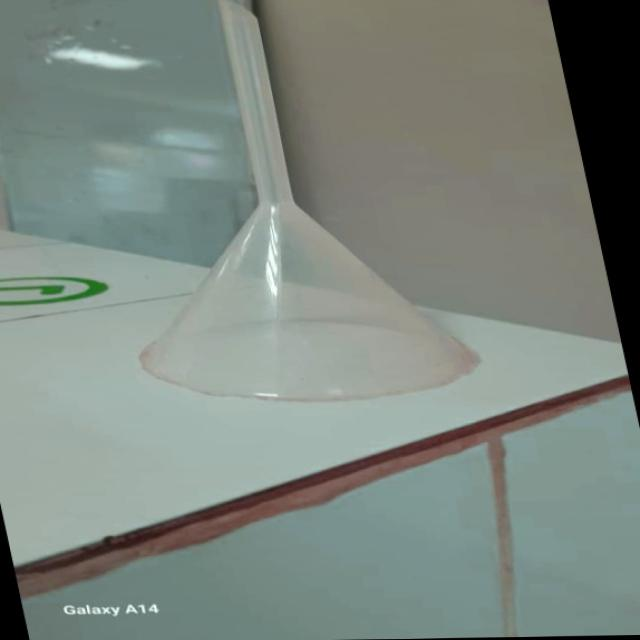Funnel: (73, 10, 486, 407)
